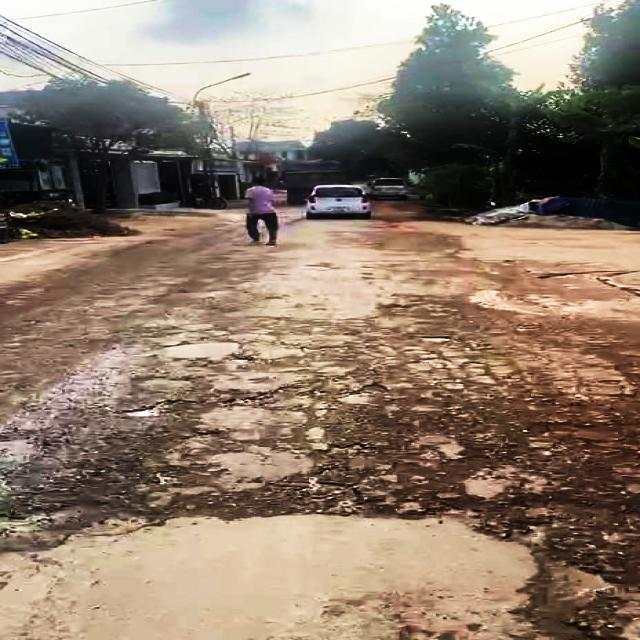pothole: (516, 559, 640, 640), (407, 502, 550, 549), (280, 471, 368, 516), (0, 498, 91, 537), (111, 397, 180, 420)
